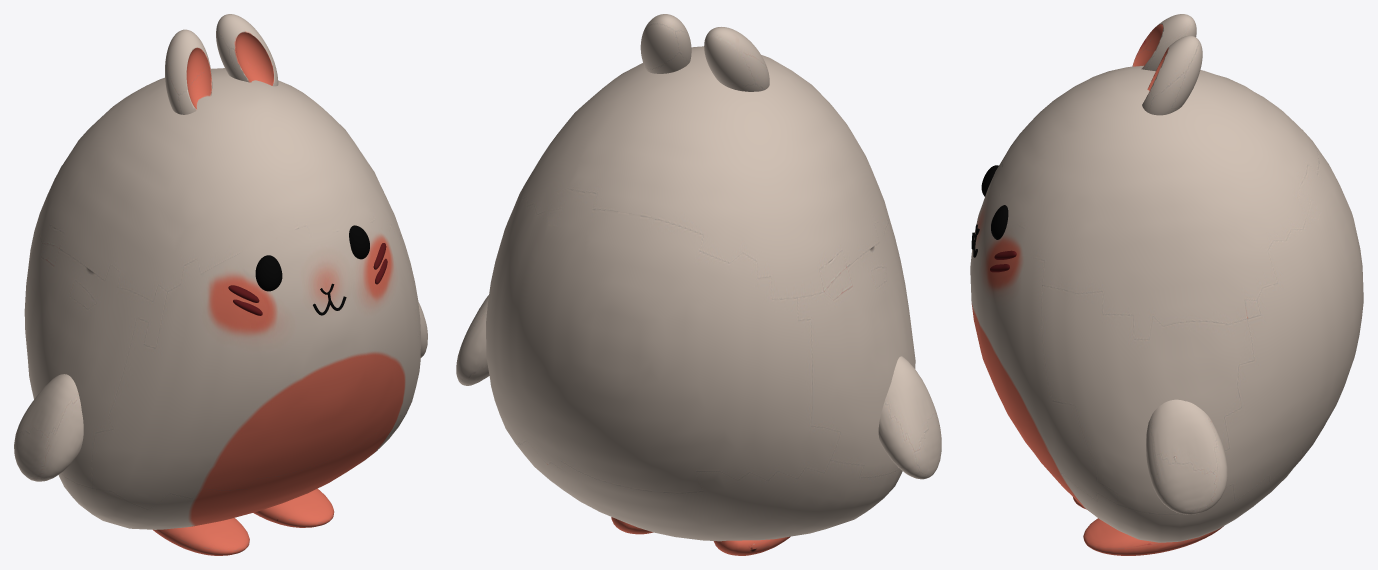
File: round_bunny.glb
The picture shows the model from 3 angles, left to right: view 1: azimuth 30°, elevation 25°; view 2: azimuth 150°, elevation 25°; view 3: azimuth 270°, elevation 25°; orthographic projection. The views are drawn at different scales.
Visible parts, largest first — view 1: Bun; view 2: Bun; view 3: Bun.
Part boxes in pixels (bbox=[...]): Bun: bbox=[14, 14, 427, 555]; Bun: bbox=[456, 14, 941, 555]; Bun: bbox=[970, 14, 1363, 555].
Size of the model in its own units: 1.96 by 2.22 by 1.6.
Materials: 1 (1 with a texture image).
